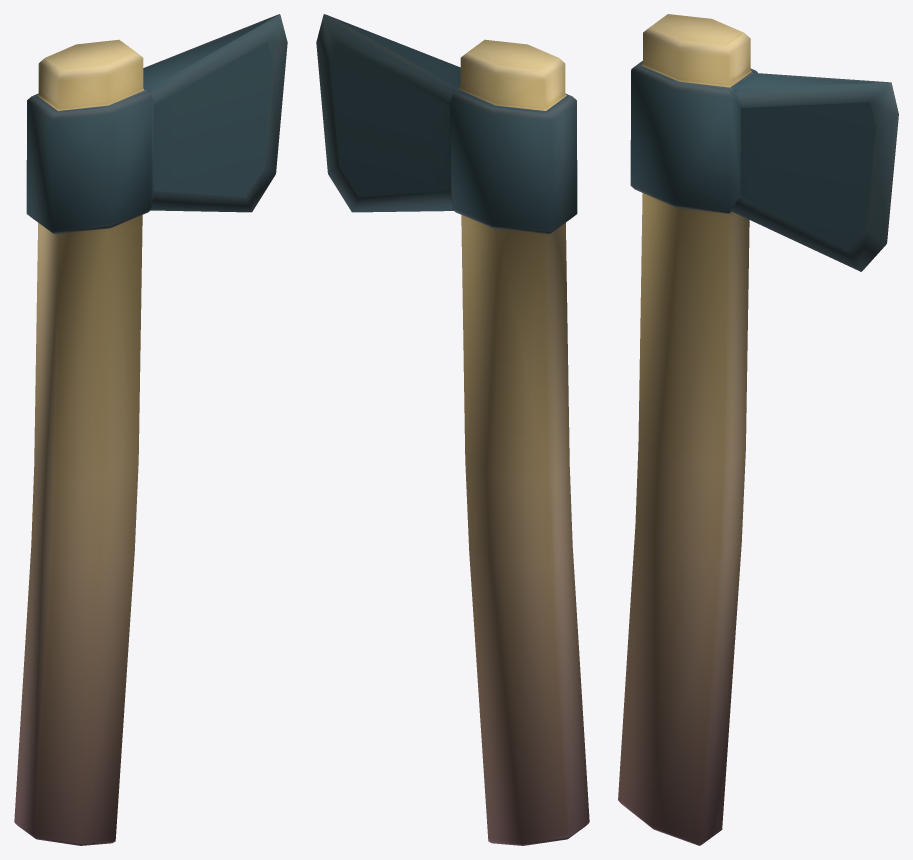
Rendered from Axe.fbx.
The picture shows the model from 3 angles, left to right: view 1: azimuth 30°, elevation 25°; view 2: azimuth 150°, elevation 25°; view 3: azimuth 330°, elevation 25°; orthographic projection. The views are drawn at different scales.
Parts seen in each view (by area): view 1: Axe.002; view 2: Axe.002; view 3: Axe.002.
Part boxes in pixels (<box>): Axe.002: <box>14,14,287,845</box>; Axe.002: <box>316,14,589,845</box>; Axe.002: <box>618,14,898,845</box>.
Size of the model in its own units: 12.31 by 44.24 by 126.
Materials: 2 (2 with a texture image).
